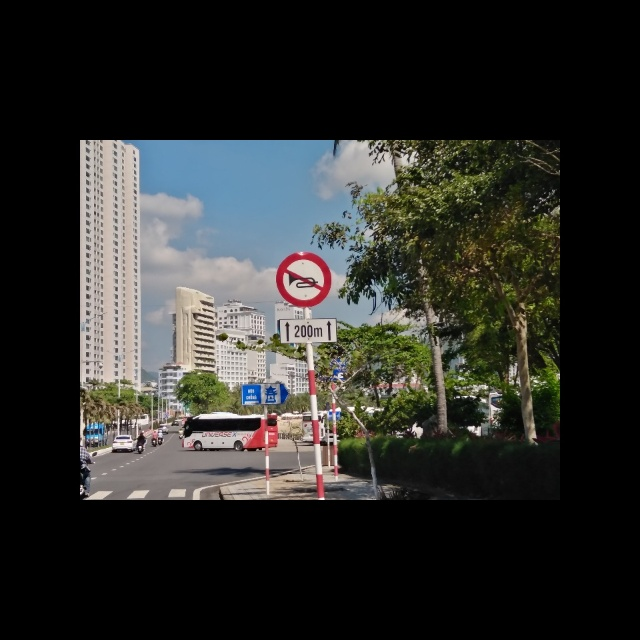Cấm bấm còi: (275, 250, 332, 305)
